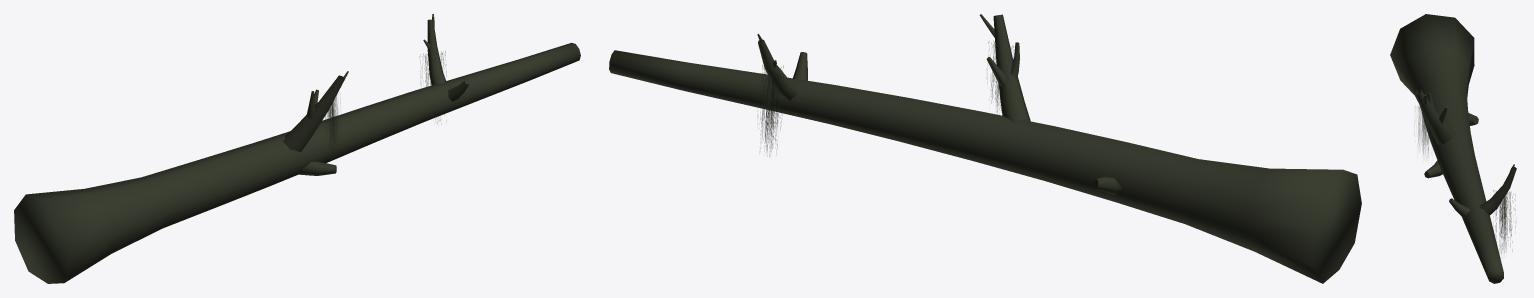
The model's file is Tronco_Caido_Musgo.glb.
3 views of the same model, side by side, from view 1: azimuth 30°, elevation 25°; view 2: azimuth 150°, elevation 25°; view 3: azimuth 270°, elevation 25° (orthographic). The views are drawn at different scales.
Visible parts, largest first — view 1: Tronco_Caido_Musgo; view 2: Tronco_Caido_Musgo; view 3: Tronco_Caido_Musgo.
Boxes of the visible parts, left/top/right/bottom form: Tronco_Caido_Musgo: left=14, top=14, right=580, bottom=283; Tronco_Caido_Musgo: left=609, top=14, right=1361, bottom=283; Tronco_Caido_Musgo: left=1390, top=14, right=1516, bottom=283.
Bounding box in the file's own units: 9.02 × 2.11 × 2.01.
2 materials, 1 textured.
